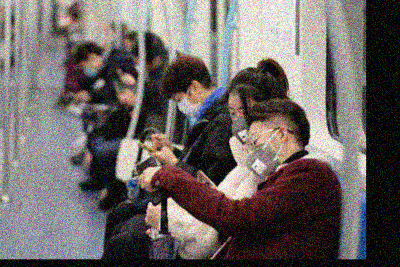with_mask: (245, 131, 277, 179), (227, 104, 251, 146), (171, 94, 201, 118), (78, 61, 96, 78)
